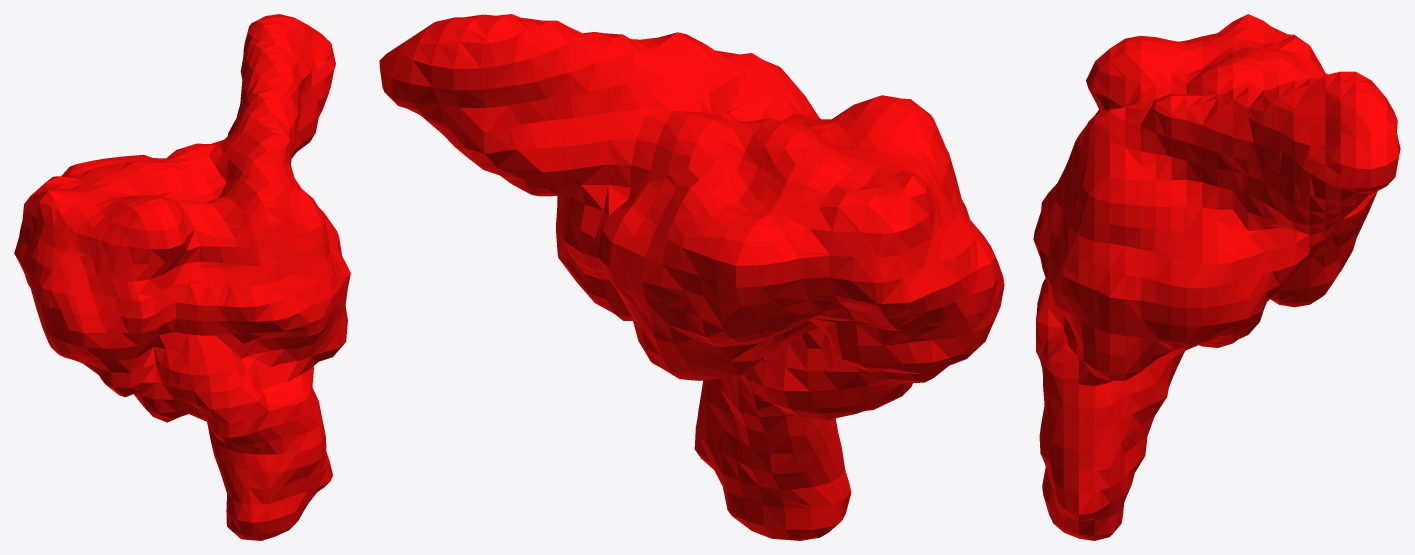
File: ybiT_coarse.dae
3 renders of one model, left to right at view 1: azimuth 30°, elevation 25°; view 2: azimuth 150°, elevation 25°; view 3: azimuth 270°, elevation 25°, orthographic. The views are drawn at different scales.
Parts seen in each view (by area): view 1: ybiT; view 2: ybiT; view 3: ybiT.
Boxes of the visible parts, x1,y1,x2,y2 form: ybiT: (14, 14, 350, 540); ybiT: (379, 14, 1004, 540); ybiT: (1033, 14, 1400, 540).
Bounding box in the file's own units: 86.76 × 95.41 × 60.54.
